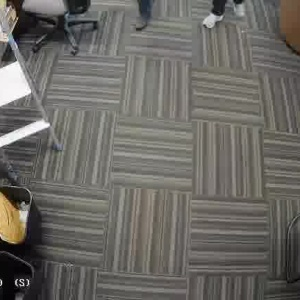person: (204, 0, 246, 36)
